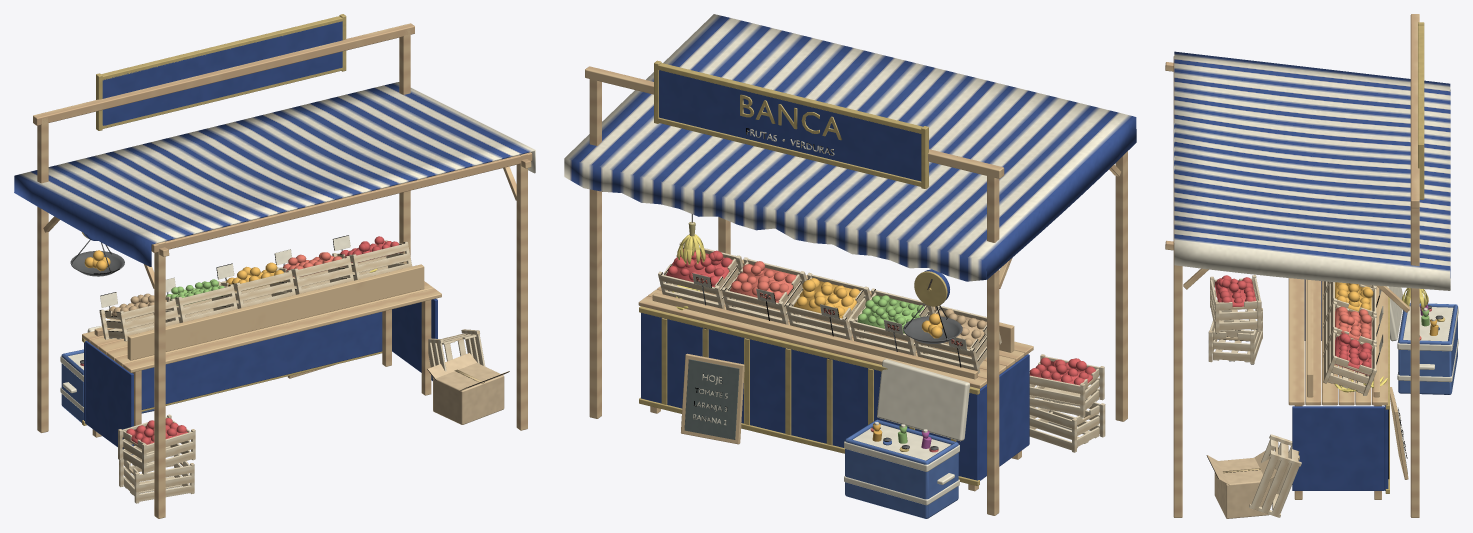
File: Era1_Banca.fbx
3 renders of one model, left to right at view 1: azimuth 30°, elevation 25°; view 2: azimuth 150°, elevation 25°; view 3: azimuth 270°, elevation 25°, orthographic. The views are drawn at different scales.
Visible parts, largest first — view 1: ERA1_Awning.001, ERA1_Counter.001, ERA1_Frame.001, ERA1_Sign.001, ERA1_Rack.001, ERA1_Box.001, ERA1_Stack0.001, ERA1_Stack1.001, ERA1_Crate4.001, ERA1_Crate0.001, ERA1_Crate2.001, ERA1_Cooler.001 (+8 smaller); view 2: ERA1_Awning.001, ERA1_Counter.001, ERA1_Sign.001, ERA1_Cooler.001, ERA1_Frame.001, ERA1_Chalkboard.001, ERA1_Rack.001, ERA1_Stack0.001, ERA1_Stack1.001, ERA1_Scale.001, ERA1_Crate2.001, ERA1_Crate1.001 (+11 smaller); view 3: ERA1_Awning.001, ERA1_Counter.001, ERA1_Frame.001, ERA1_Cooler.001, ERA1_Box.001, ERA1_Stack2.001, ERA1_Stack0.001, ERA1_Crate0.001, ERA1_Stack1.001, ERA1_Rack.001, ERA1_Sign.001, ERA1_StackFruit.001 (+6 smaller).
Boxes of the visible parts, bbox=[...] form: ERA1_Awning.001: bbox=[14, 82, 535, 266]; ERA1_Counter.001: bbox=[82, 281, 441, 454]; ERA1_Frame.001: bbox=[33, 23, 532, 518]; ERA1_Sign.001: bbox=[96, 14, 346, 130]; ERA1_Rack.001: bbox=[94, 264, 424, 360]; ERA1_Box.001: bbox=[427, 353, 509, 424]; ERA1_Stack0.001: bbox=[119, 454, 194, 503]; ERA1_Stack1.001: bbox=[118, 414, 195, 474]; ERA1_Crate4.001: bbox=[99, 298, 179, 341]; ERA1_Crate0.001: bbox=[332, 240, 412, 280]; ERA1_Crate2.001: bbox=[218, 270, 295, 308]; ERA1_Cooler.001: bbox=[60, 325, 154, 422]; ERA1_Awning.001: bbox=[564, 14, 1136, 281]; ERA1_Counter.001: bbox=[638, 283, 1033, 491]; ERA1_Sign.001: bbox=[654, 60, 928, 188]; ERA1_Cooler.001: bbox=[844, 359, 969, 518]; ERA1_Frame.001: bbox=[585, 66, 1127, 515]; ERA1_Chalkboard.001: bbox=[681, 353, 744, 444]; ERA1_Rack.001: bbox=[652, 259, 1014, 379]; ERA1_Stack0.001: bbox=[1029, 399, 1105, 452]; ERA1_Stack1.001: bbox=[1029, 354, 1104, 417]; ERA1_Scale.001: bbox=[903, 269, 962, 343]; ERA1_Crate2.001: bbox=[785, 272, 870, 340]; ERA1_Crate1.001: bbox=[722, 257, 806, 324]; ERA1_Awning.001: bbox=[1174, 51, 1450, 290]; ERA1_Counter.001: bbox=[1288, 278, 1389, 499]; ERA1_Frame.001: bbox=[1165, 14, 1419, 517]; ERA1_Cooler.001: bbox=[1382, 286, 1458, 394]; ERA1_Box.001: bbox=[1206, 450, 1276, 518]; ERA1_Stack2.001: bbox=[1249, 434, 1301, 517]; ERA1_Stack0.001: bbox=[1208, 308, 1262, 364]; ERA1_Crate0.001: bbox=[1323, 330, 1376, 395]; ERA1_Stack1.001: bbox=[1210, 275, 1261, 333]; ERA1_Rack.001: bbox=[1307, 279, 1379, 397]; ERA1_Sign.001: bbox=[1418, 22, 1424, 199]; ERA1_StackFruit.001: bbox=[1215, 275, 1256, 306].
Bounding box in the file's own units: 3.51 × 2.96 × 2.29.
1 material, 1 textured.
